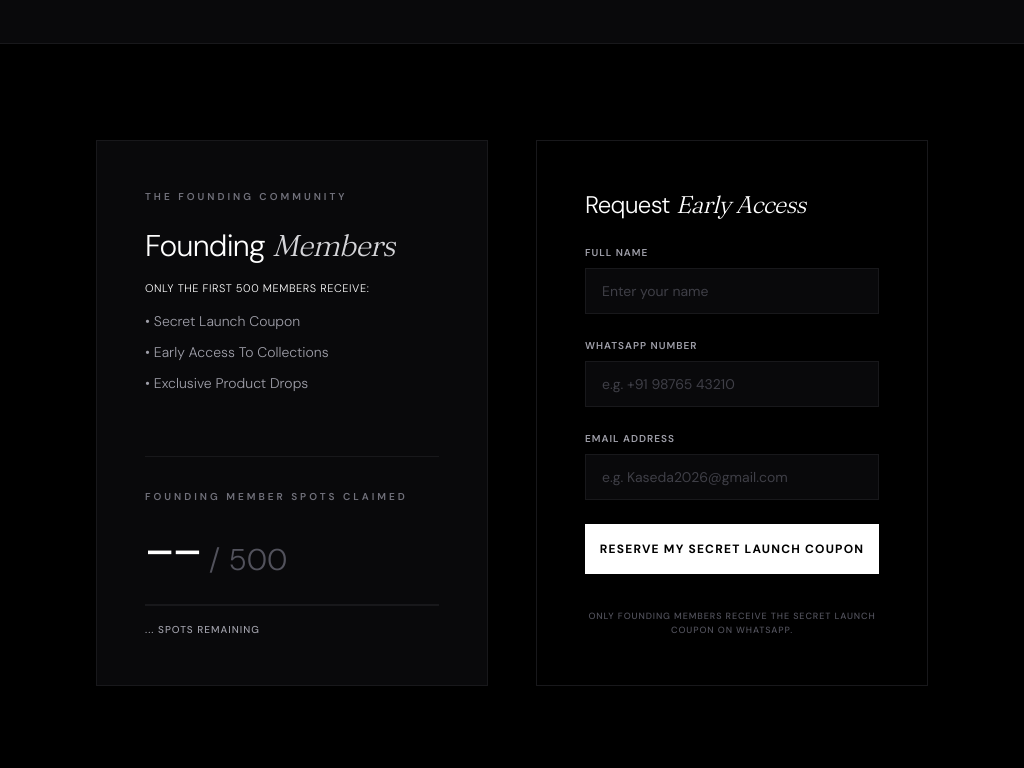
Home Page Unit Tests › Registration Form Validation & State › displays validation error for empty name
The image size is (1024, 768).
(page scrolled)
Leave name empty
In the field labelled "WhatsApp Number": [732, 384] box left=585, top=361, right=879, bottom=407, type "+919876543210"
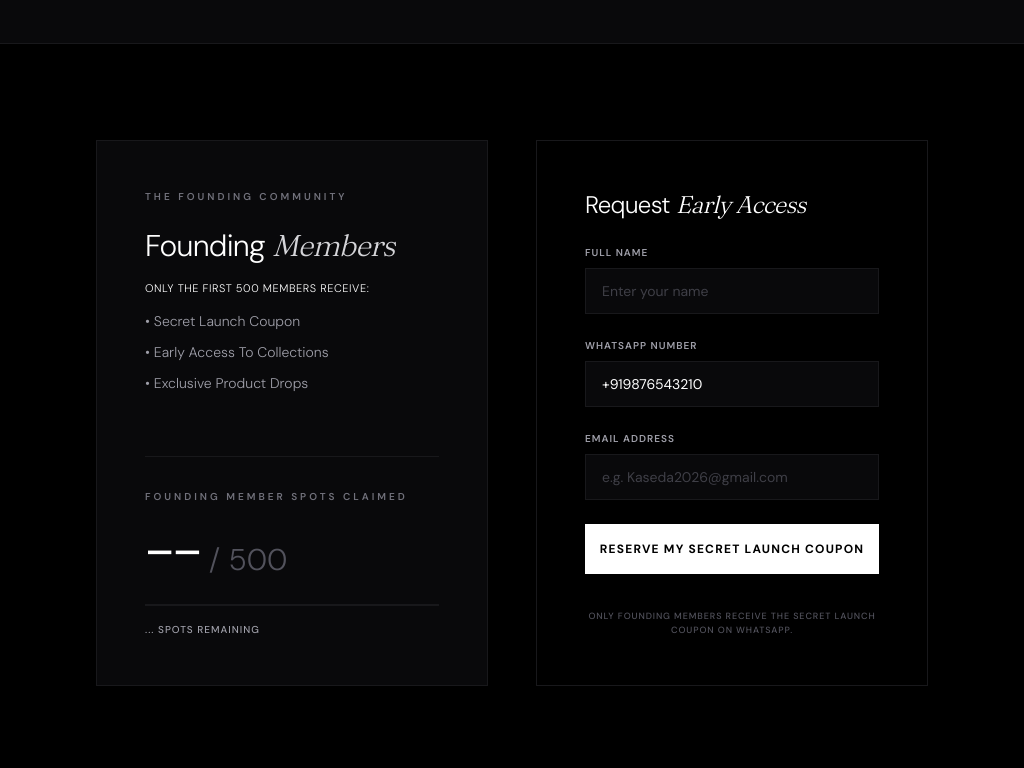
In the field labelled "Email Address": [732, 477] box left=585, top=454, right=879, bottom=500, type "test@example.com"
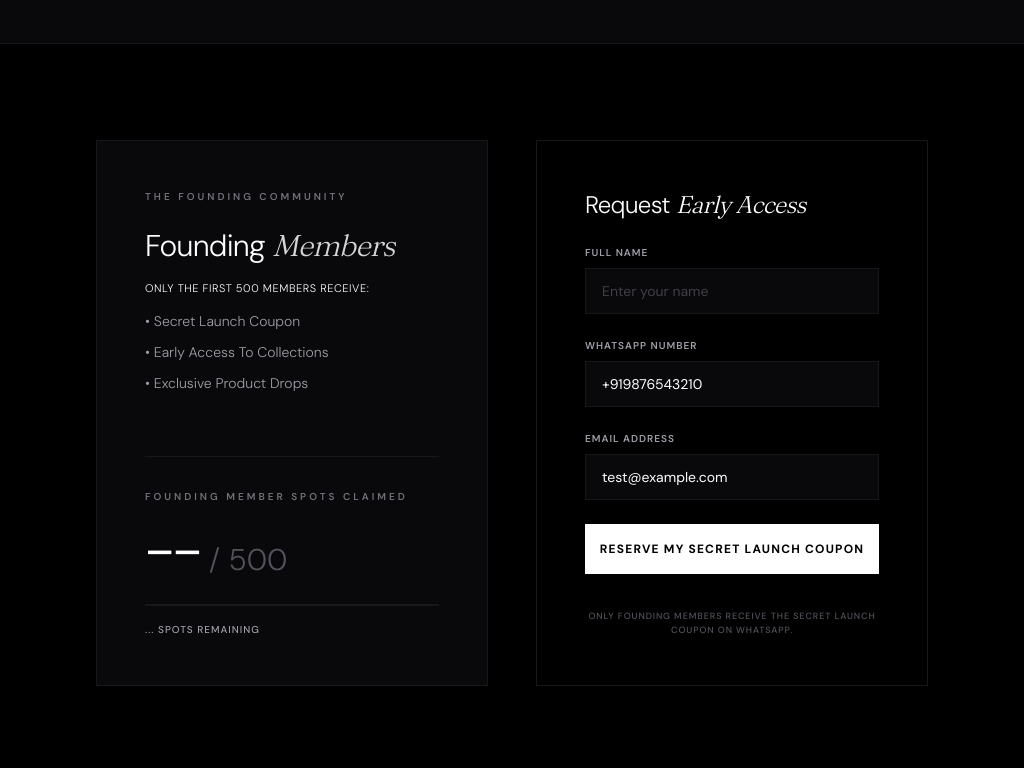
Submit the text "Reserve My Secret Launch Coupon", box left=585, top=245, right=879, bottom=637
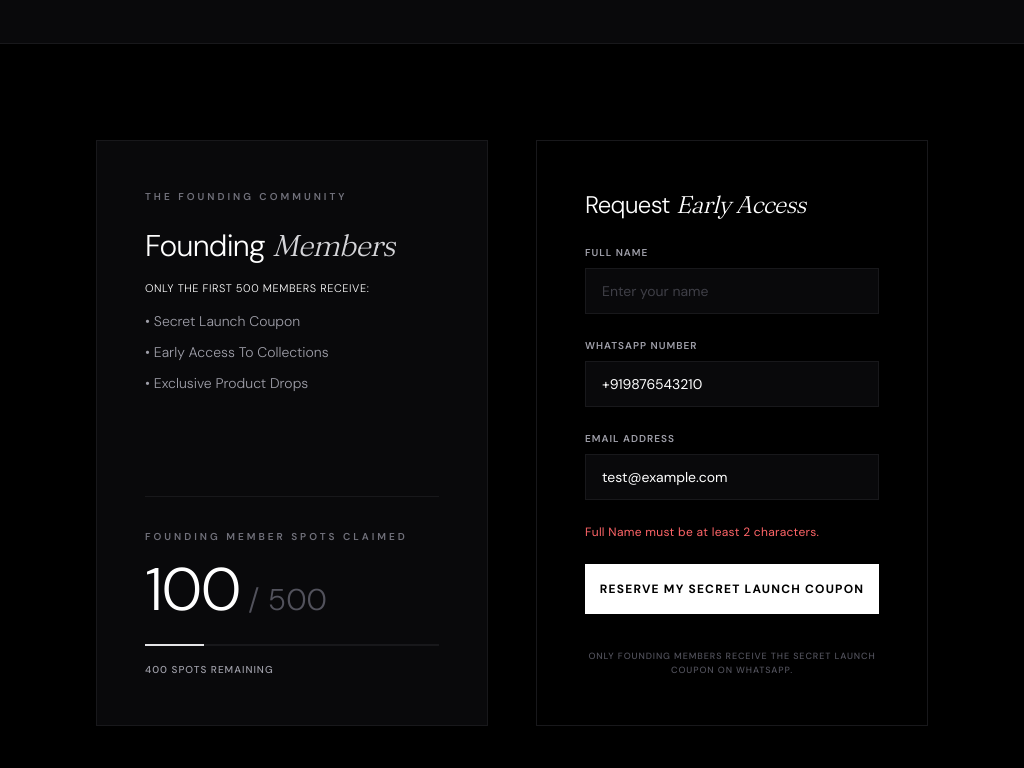
Result: the text "Full Name must be at least 2 characters." is shown at left=585, top=524, right=819, bottom=540
